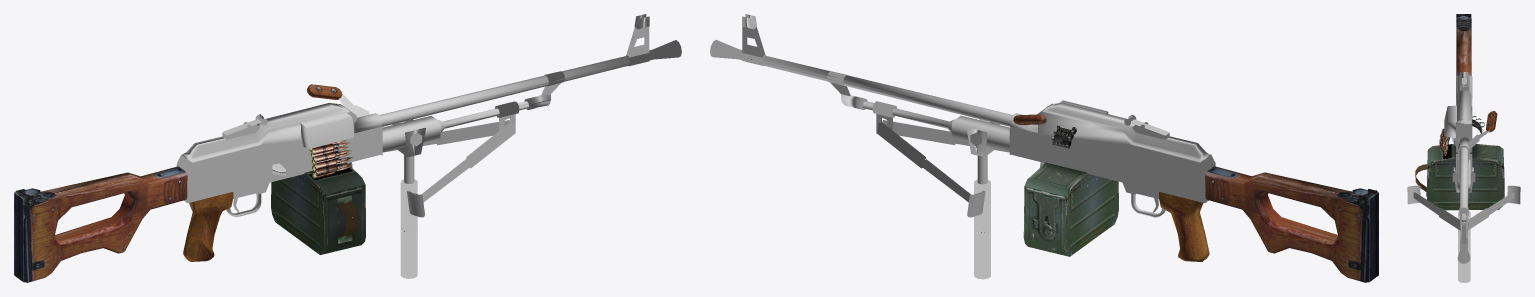
File: gun.obj
3 views of the same model, side by side, from view 1: azimuth 30°, elevation 25°; view 2: azimuth 150°, elevation 25°; view 3: azimuth 270°, elevation 25° (orthographic). The views are drawn at different scales.
Parts seen in each view (by area): view 1: UAZ_469_v2.001; view 2: UAZ_469_v2.001; view 3: UAZ_469_v2.001.
Boxes of the visible parts, bbox=[...] form: UAZ_469_v2.001: bbox=[14, 14, 681, 282]; UAZ_469_v2.001: bbox=[710, 14, 1378, 282]; UAZ_469_v2.001: bbox=[1407, 14, 1520, 282].
Size of the model in its own units: 1.1 by 0.3232 by 0.2249.
